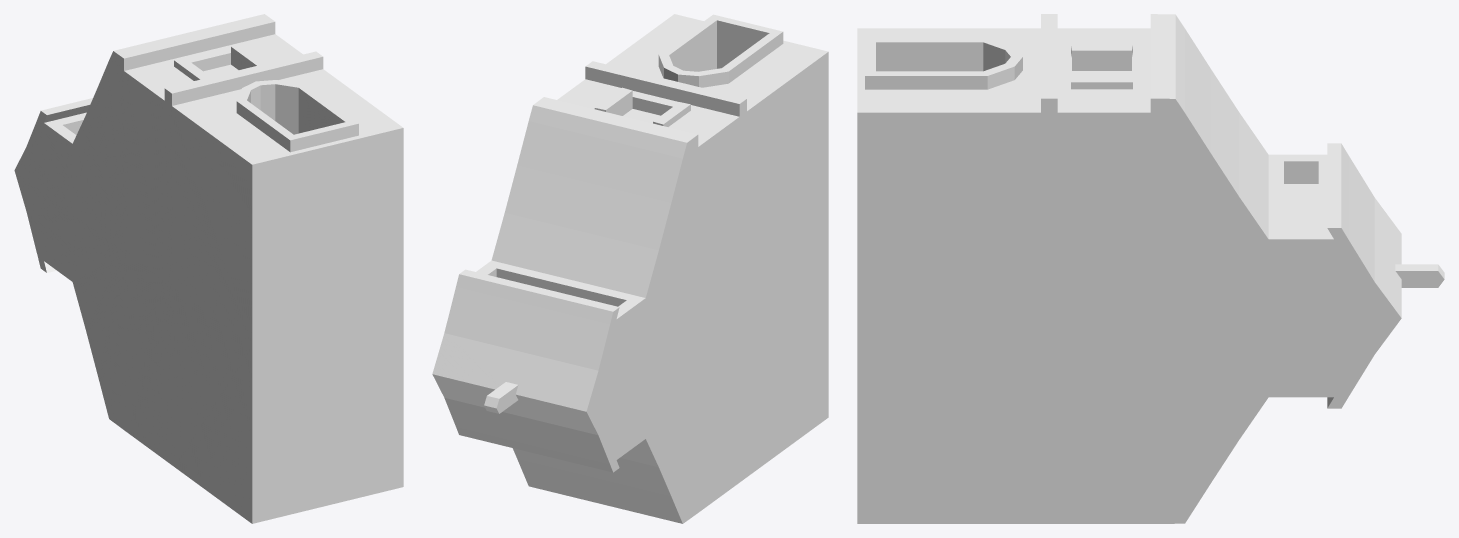
File: venice_building_21.fbx
3 renders of one model, left to right at view 1: azimuth 30°, elevation 25°; view 2: azimuth 150°, elevation 25°; view 3: azimuth 270°, elevation 25°, orthographic. The views are drawn at different scales.
Parts seen in each view (by area): view 1: Cube.364; view 2: Cube.364; view 3: Cube.364.
Boxes of the visible parts, x1,y1,x2,y2 form: Cube.364: (14,14,403,523); Cube.364: (432,14,828,523); Cube.364: (857,14,1444,523).
Size of the model in its own units: 653 by 1532 by 1916.
